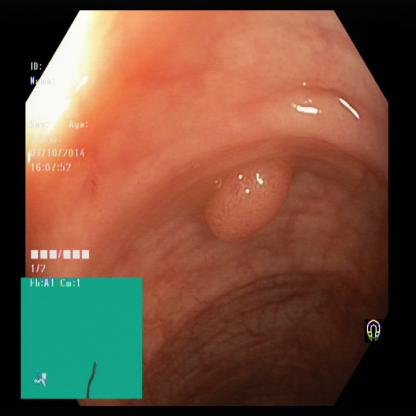Labels: (27, 57, 102, 276), (22, 278, 142, 399), (364, 308, 390, 347)
Polyps: (199, 168, 296, 239)
